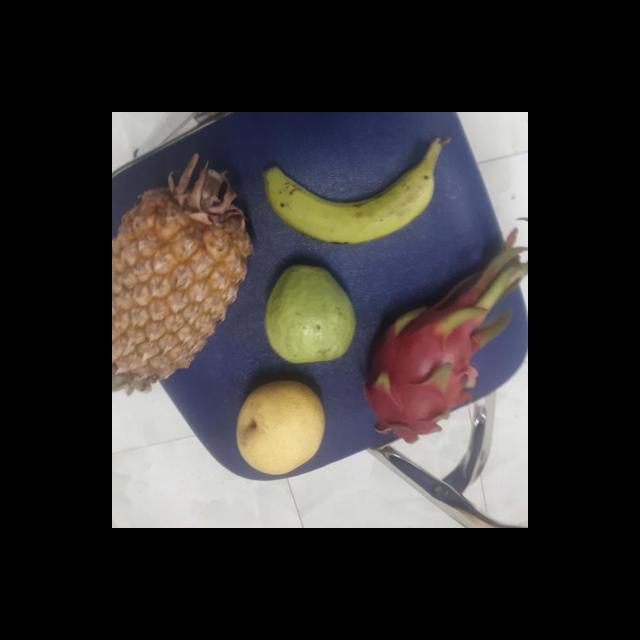banana: (262, 151, 448, 247)
guava: (262, 264, 360, 366)
pear: (236, 378, 330, 474)
pineapple: (112, 166, 253, 380)
pitaya: (364, 310, 480, 442)
